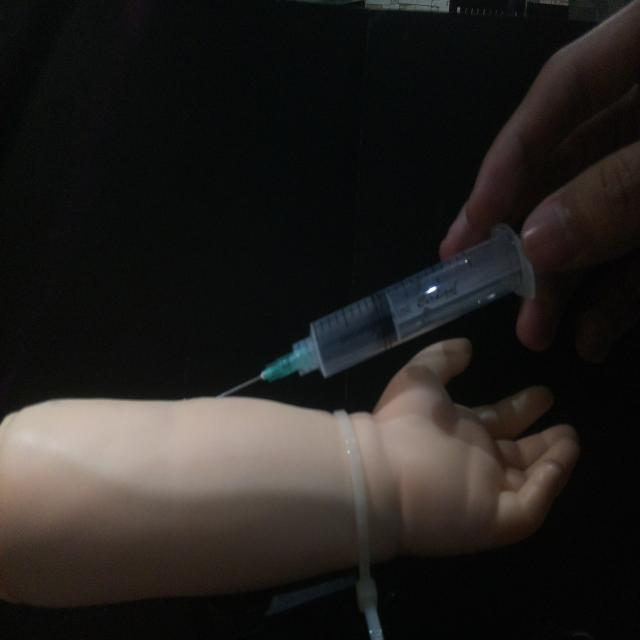19deg: (212, 219, 538, 401)
